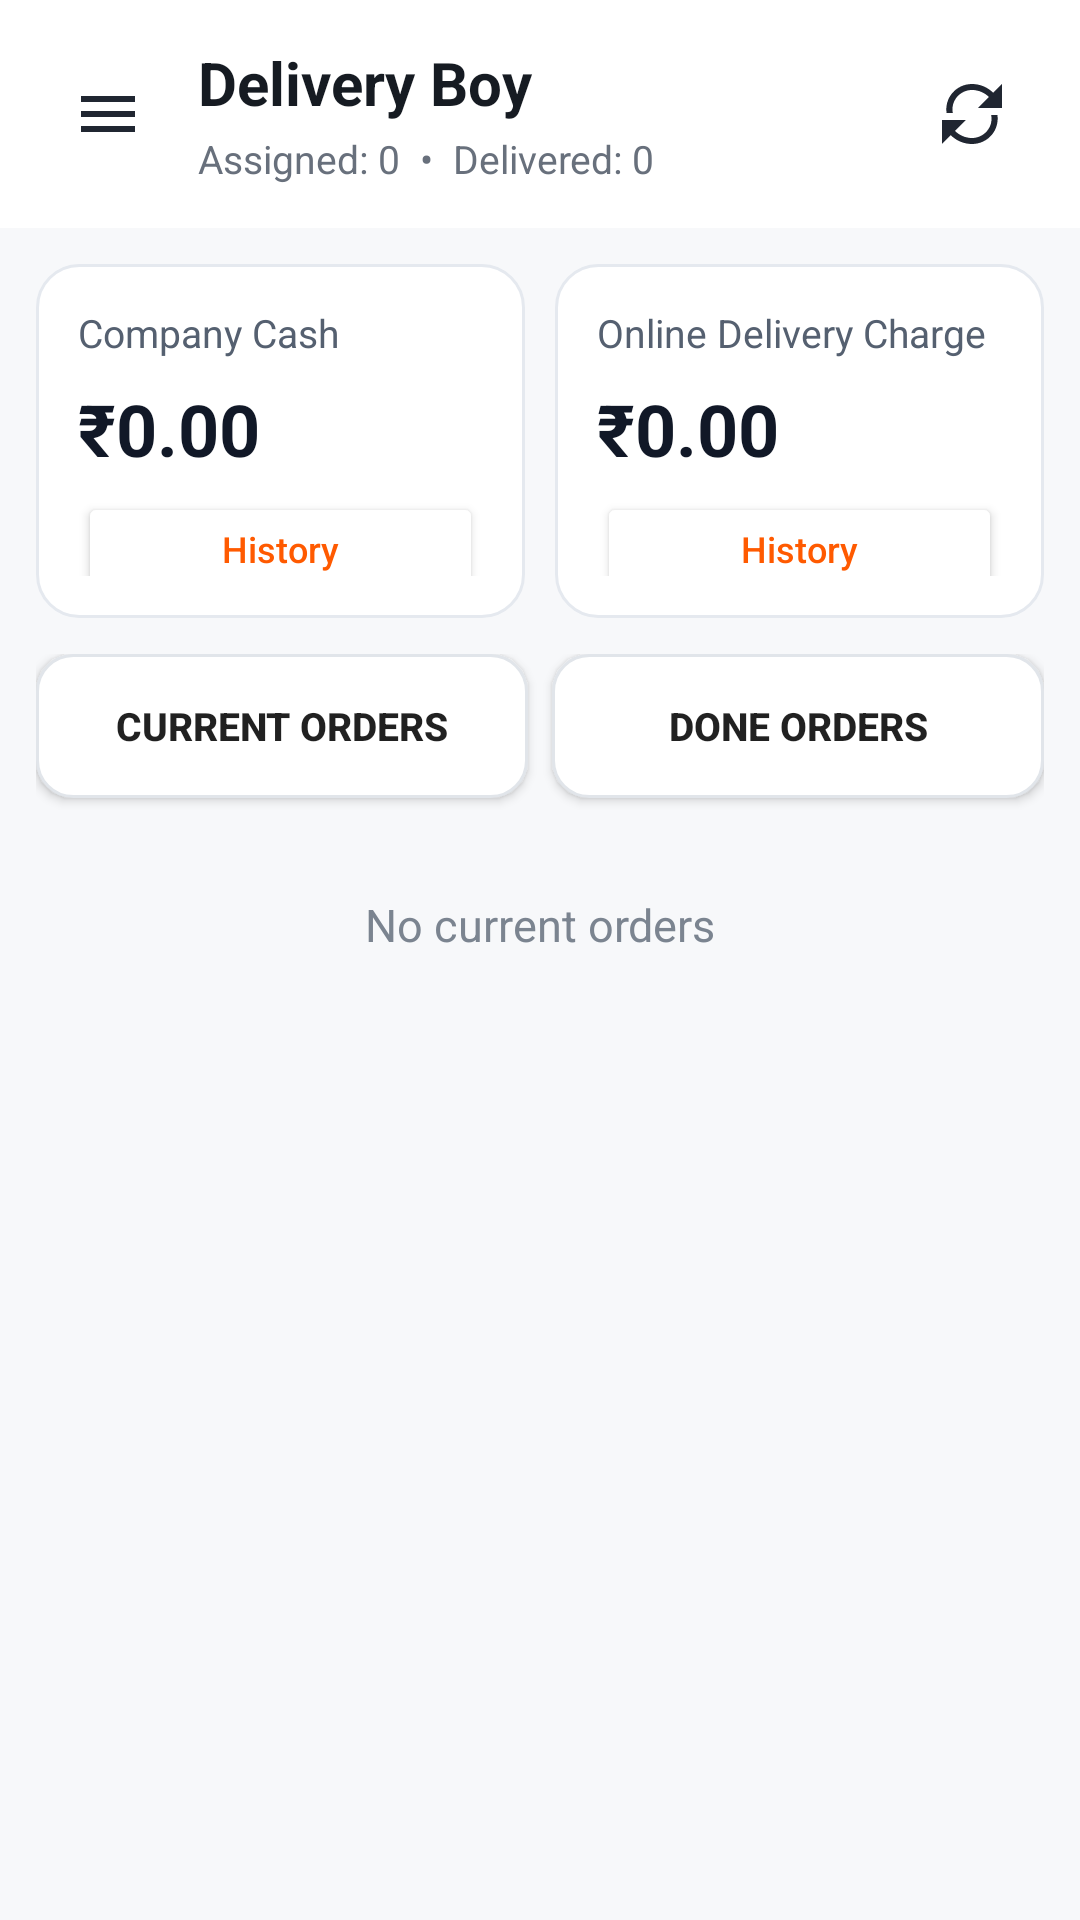

Screen size 1080w x 1920h. Icon name, then its box in pixels as (x1, y1, x2, y2):
Menu: (81, 96, 135, 132)
Refresh: (942, 84, 1002, 144)
